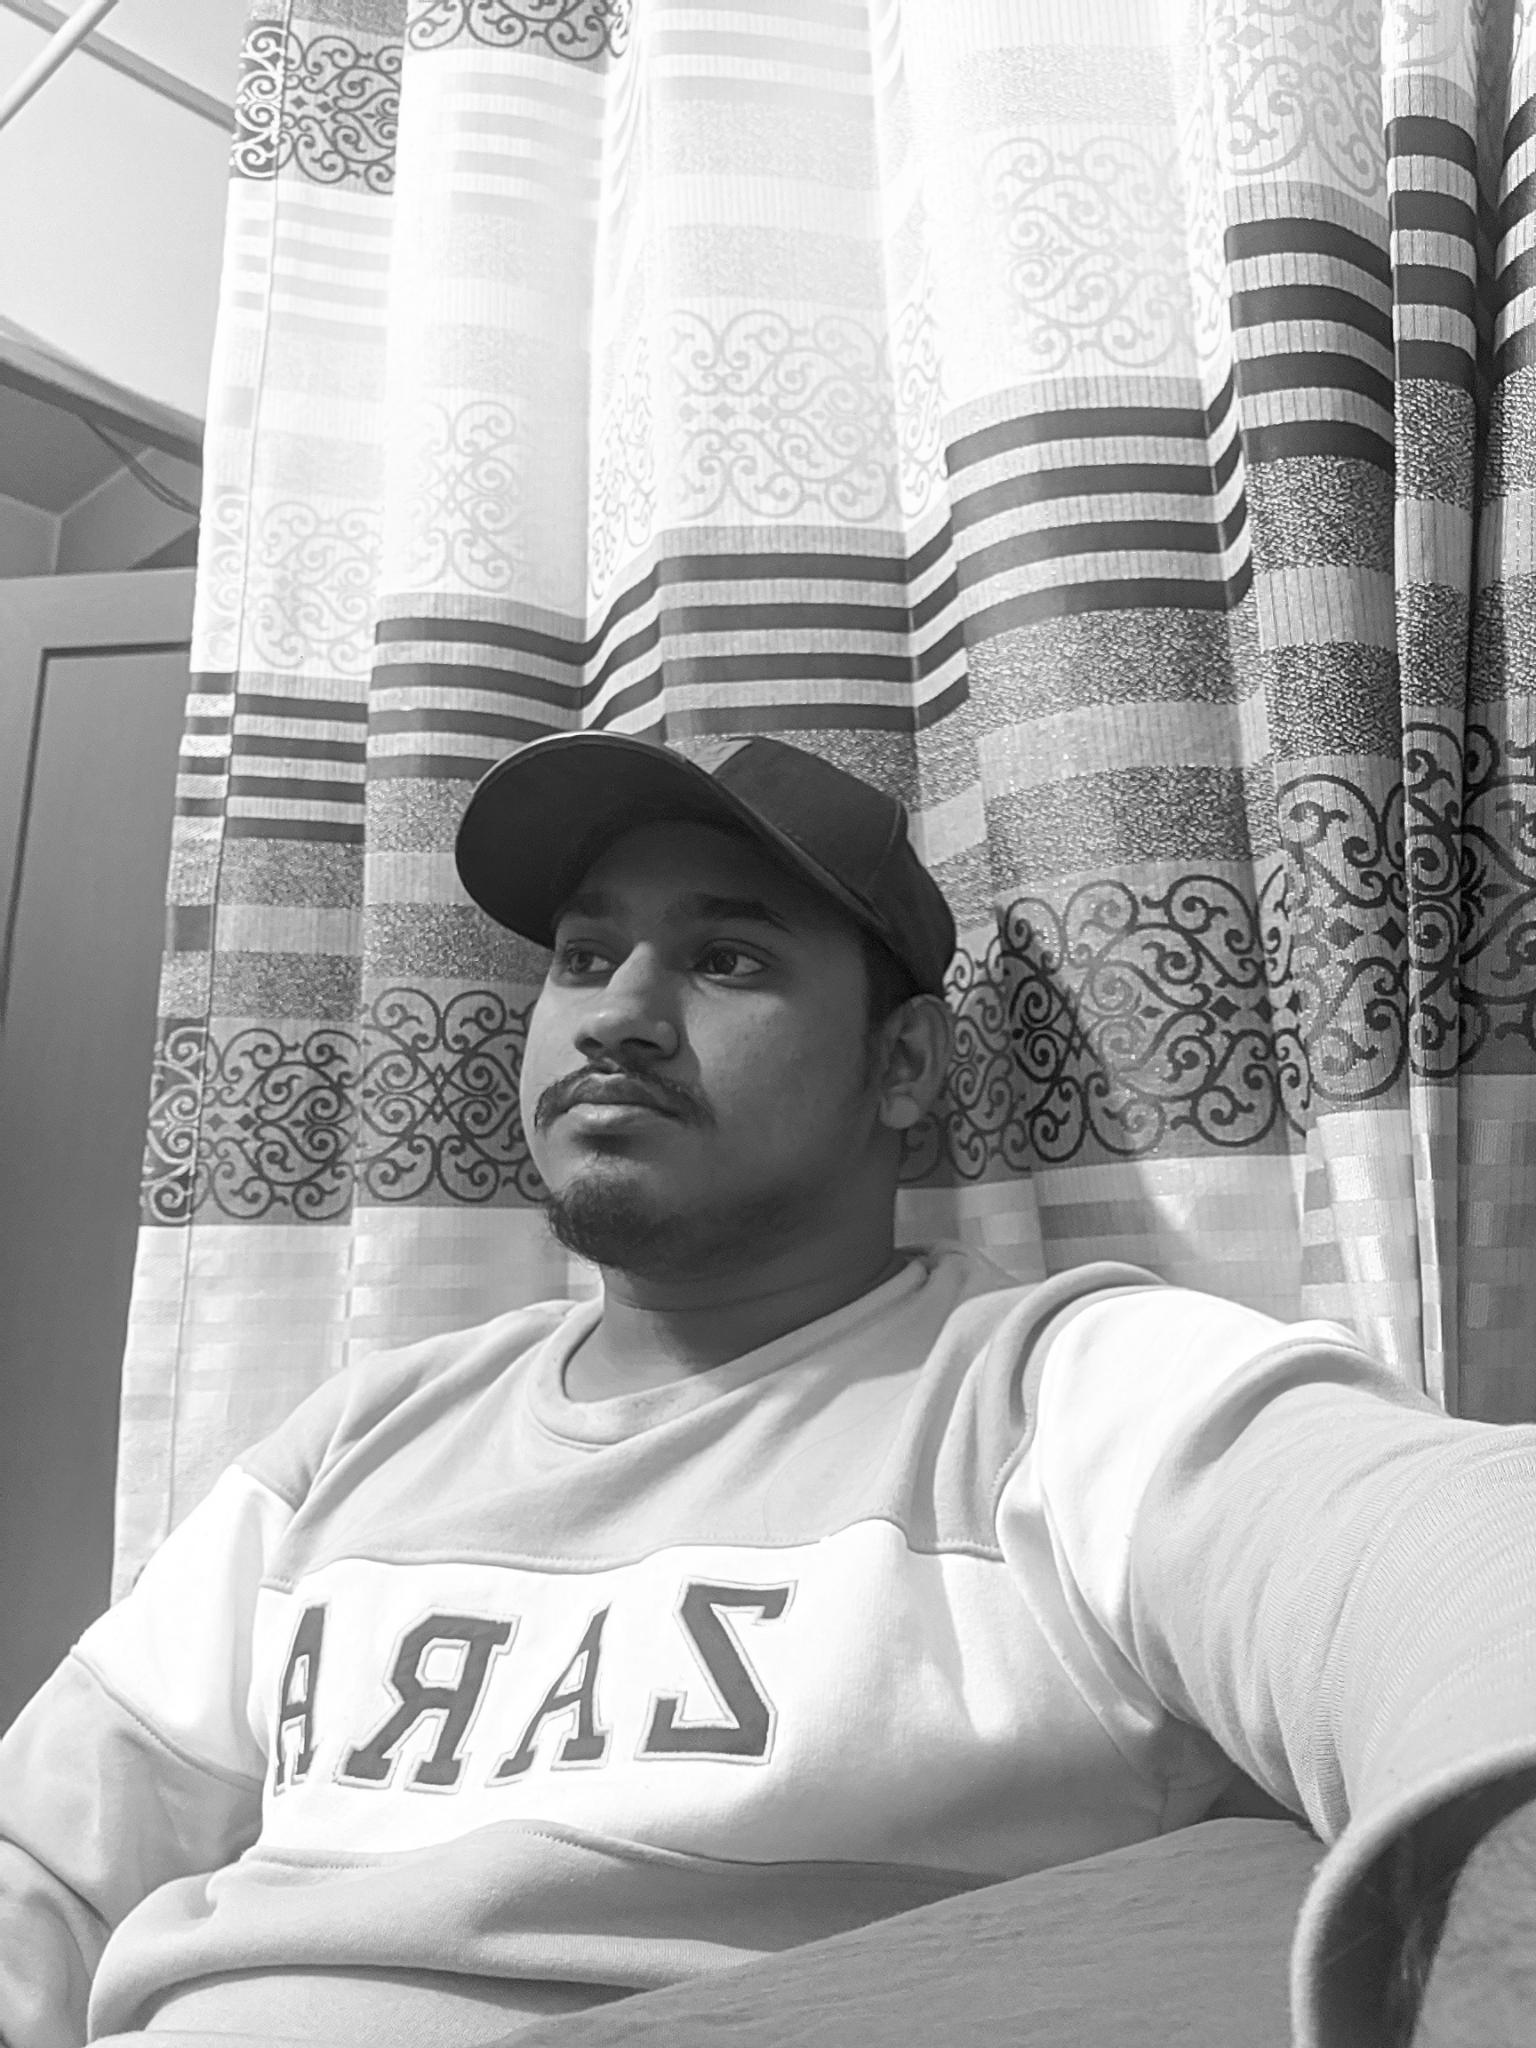Neutral: (513, 842, 836, 1240)
